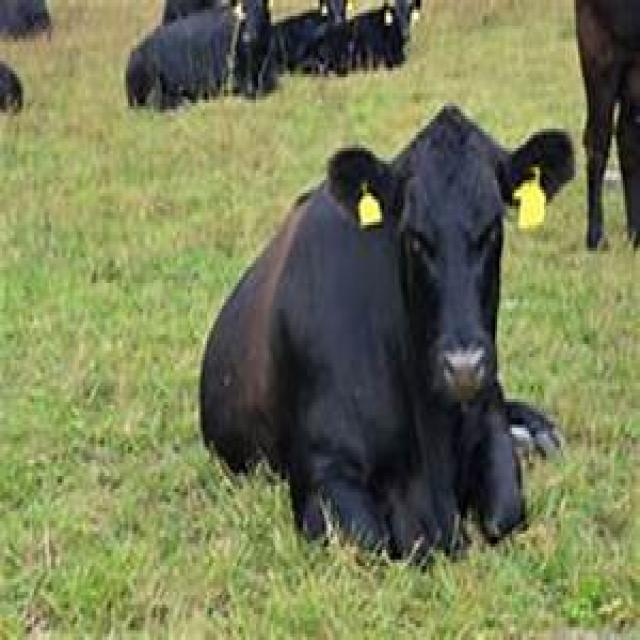animal: (176, 75, 572, 556)
